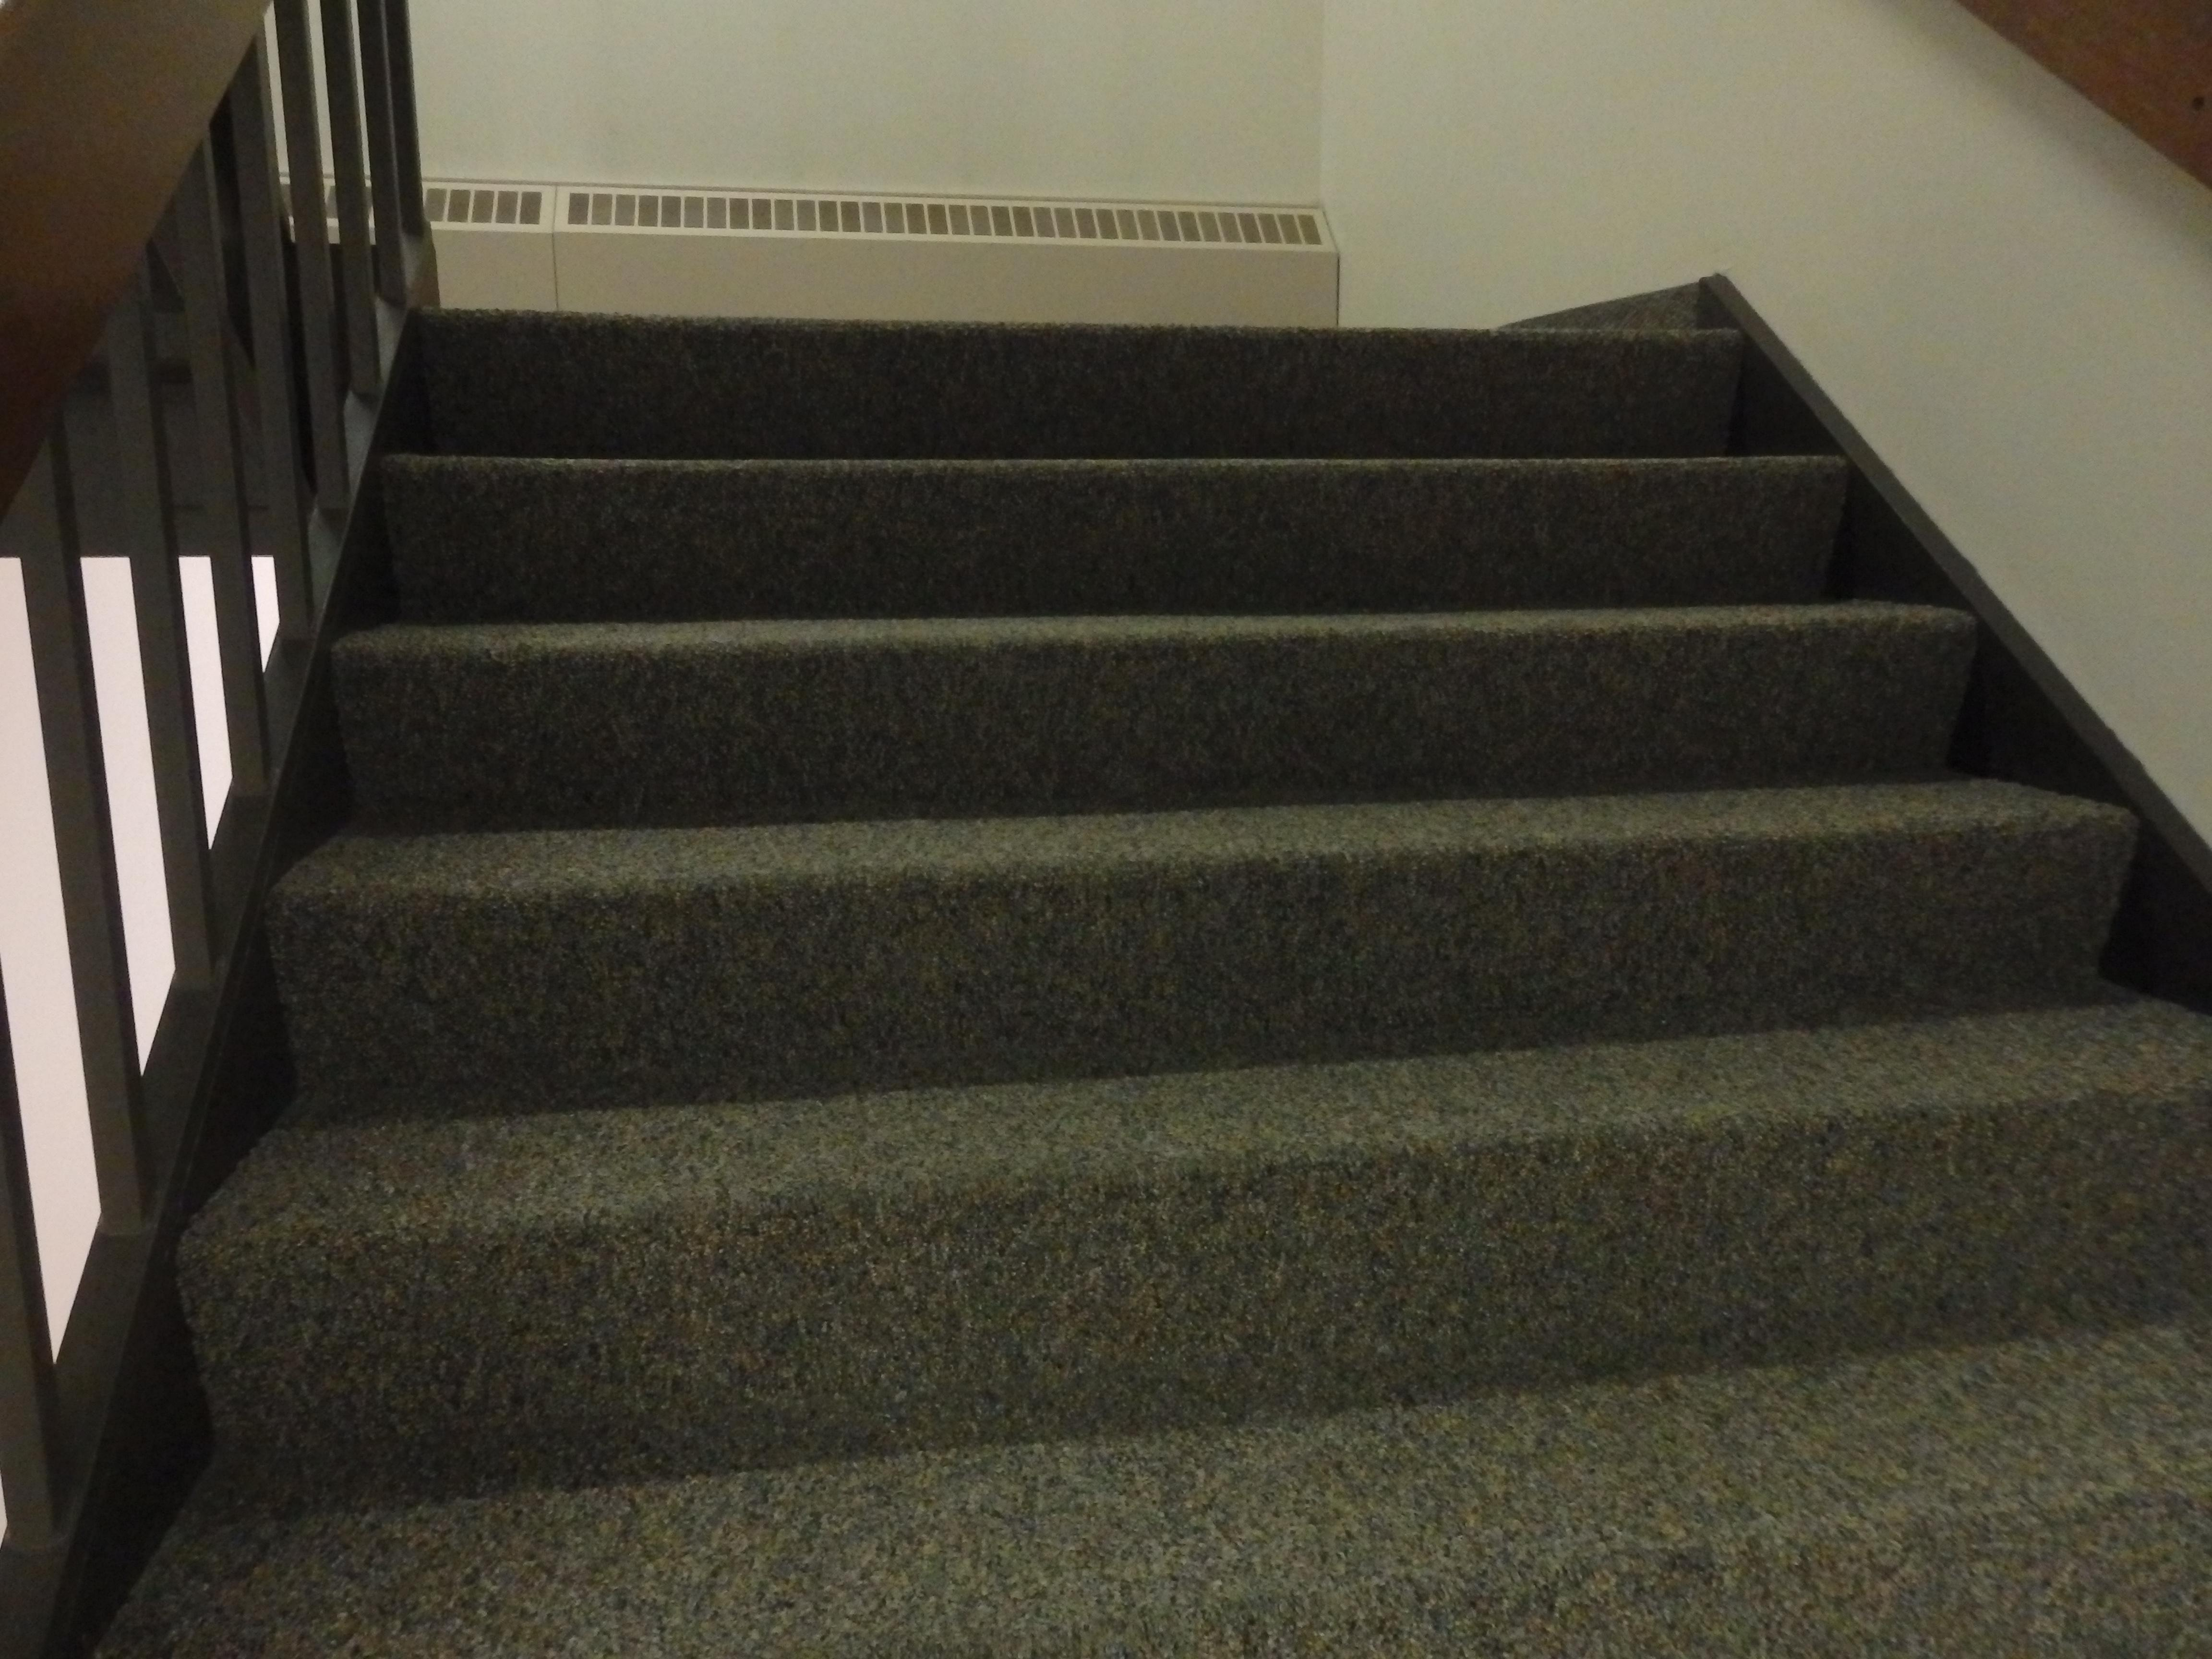stairs_up: (340, 261, 2125, 1295)
